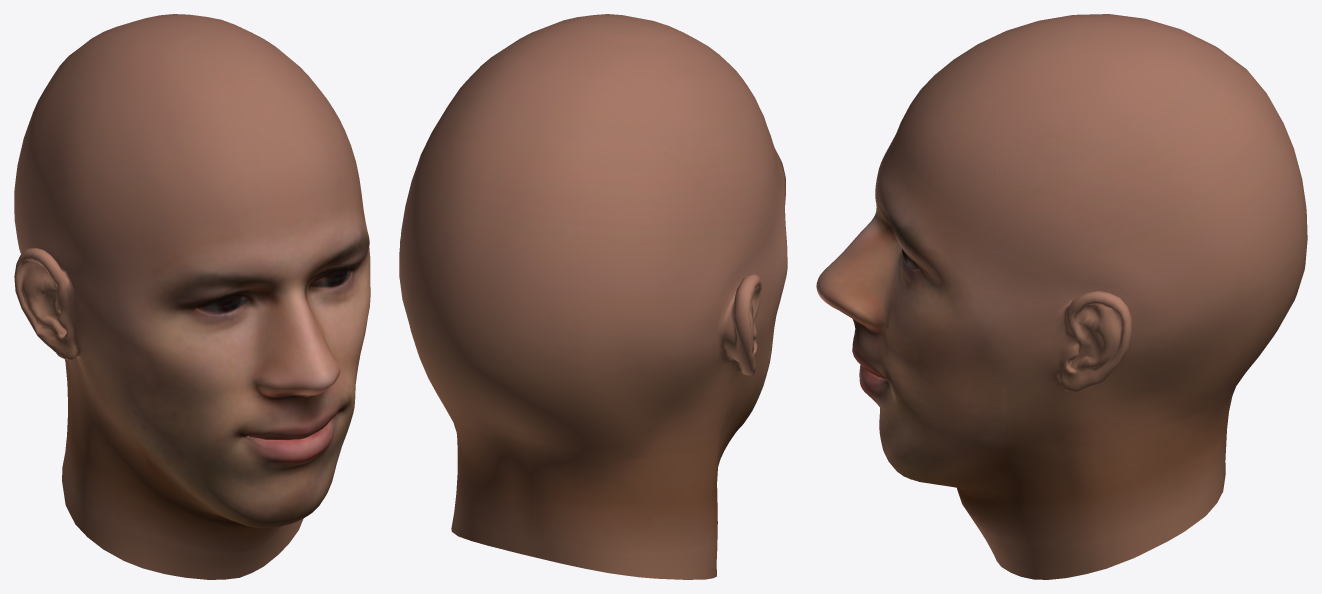
3 views of the same model, side by side, from view 1: azimuth 30°, elevation 25°; view 2: azimuth 150°, elevation 25°; view 3: azimuth 270°, elevation 25° (orthographic). The views are drawn at different scales.
Parts seen in each view (by area): view 1: HeadHires; view 2: HeadHires; view 3: HeadHires.
Part boxes in pixels (x1,y1,x2,y2): HeadHires: (14, 14, 370, 579); HeadHires: (399, 14, 787, 579); HeadHires: (816, 14, 1307, 579).
Bounding box in the file's own units: 187 × 282 × 239.
Materials: 1 (1 with a texture image).
